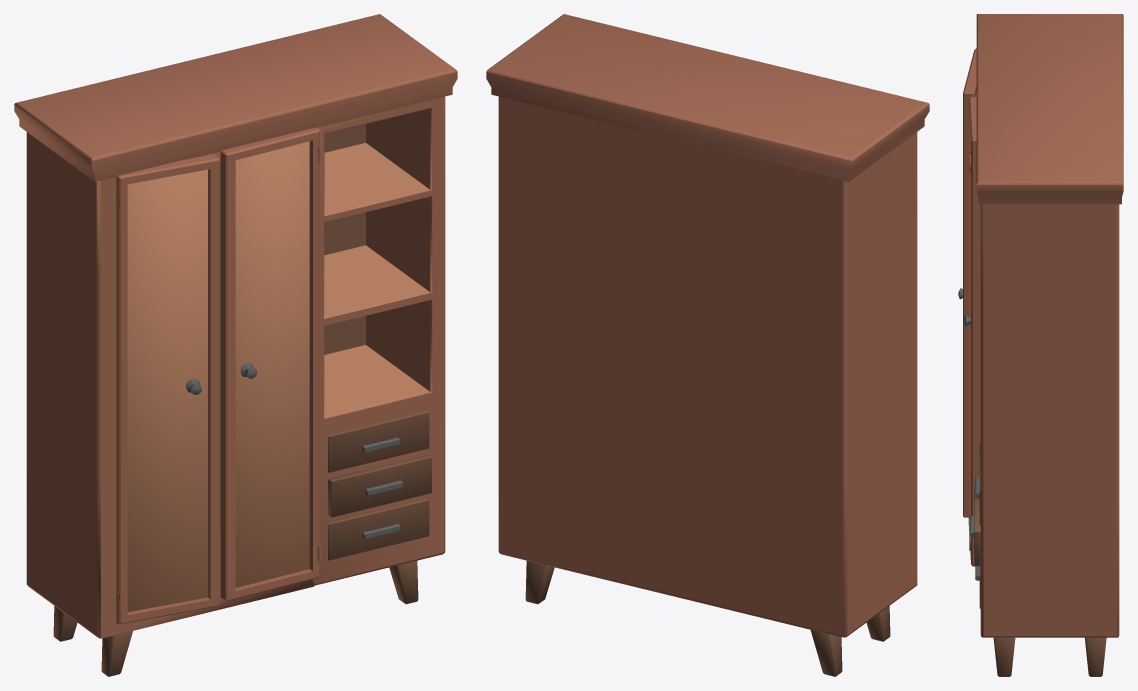
File: Wardrobe.fbx
3 renders of one model, left to right at view 1: azimuth 30°, elevation 25°; view 2: azimuth 150°, elevation 25°; view 3: azimuth 270°, elevation 25°, orthographic. The views are drawn at different scales.
Parts seen in each view (by area): view 1: Wardrobe; view 2: Wardrobe; view 3: Wardrobe.
Boxes of the visible parts, x1=… form: Wardrobe: x1=14, y1=14, x2=457, y2=676; Wardrobe: x1=486, y1=14, x2=929, y2=676; Wardrobe: x1=958, y1=14, x2=1123, y2=676.
Size of the model in its own units: 349 by 486 by 143.
